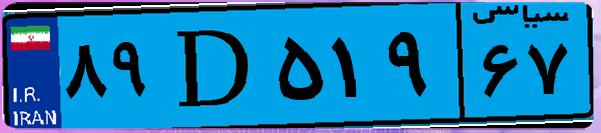1: (330, 28, 385, 110)
5: (270, 28, 330, 110)
6: (475, 38, 525, 113)
7: (525, 38, 570, 115)
8: (57, 26, 110, 100)
9: (385, 28, 445, 110), (110, 28, 158, 98)
D: (158, 12, 270, 120)
